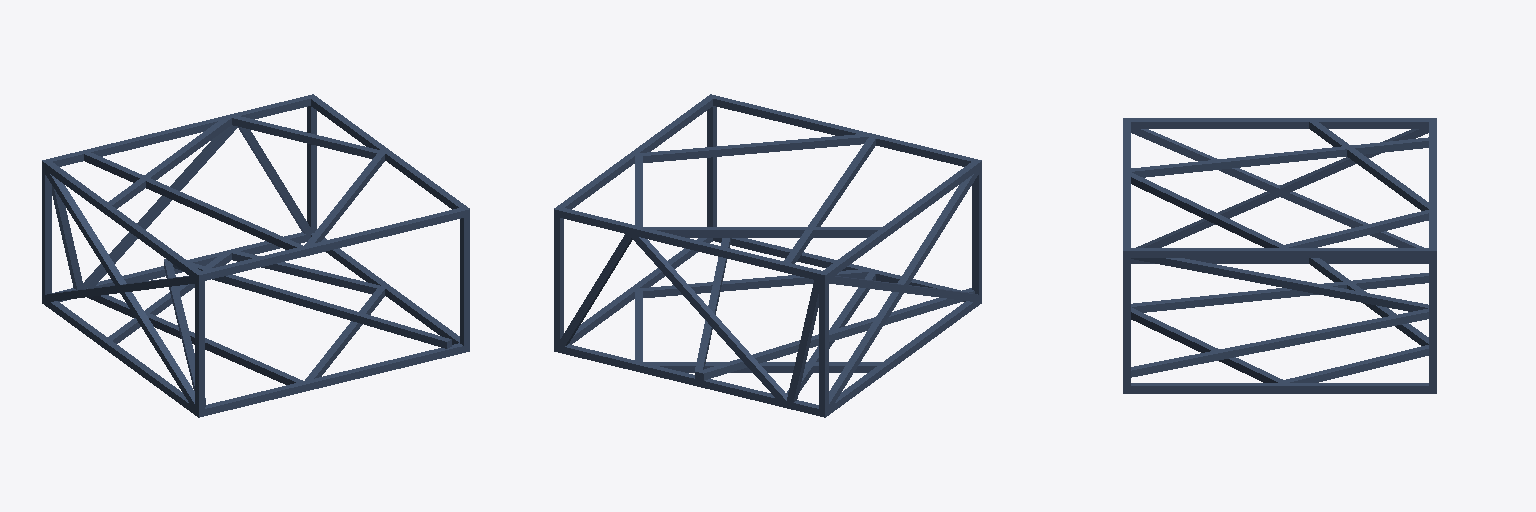
Rendered from 周边建筑1.obj.
3 renders of one model, left to right at view 1: azimuth 30°, elevation 25°; view 2: azimuth 150°, elevation 25°; view 3: azimuth 270°, elevation 25°, orthographic.
Visible parts, largest first — view 1: 周边建筑1; view 2: 周边建筑1; view 3: 周边建筑1.
Part boxes in pixels (x1,y1,x2,y2): 周边建筑1: (42, 94, 469, 417); 周边建筑1: (554, 94, 981, 417); 周边建筑1: (1123, 118, 1436, 393).
Size of the model in its own units: 2 by 1 by 2.